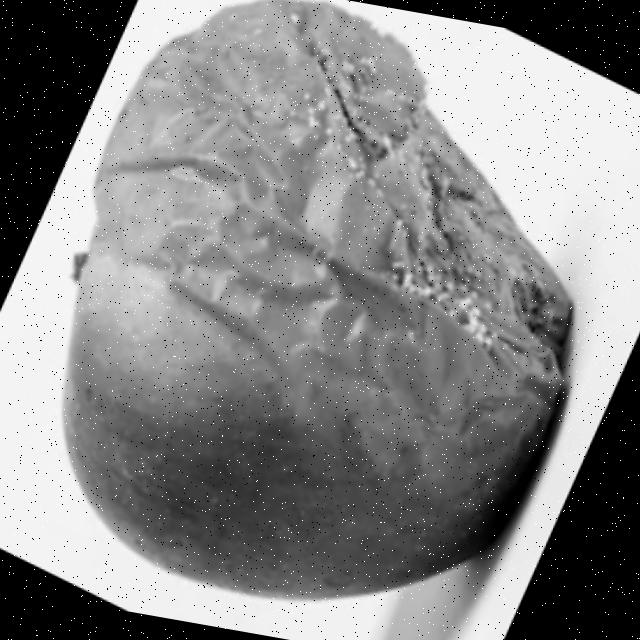Rotten: (8, 0, 629, 640)
